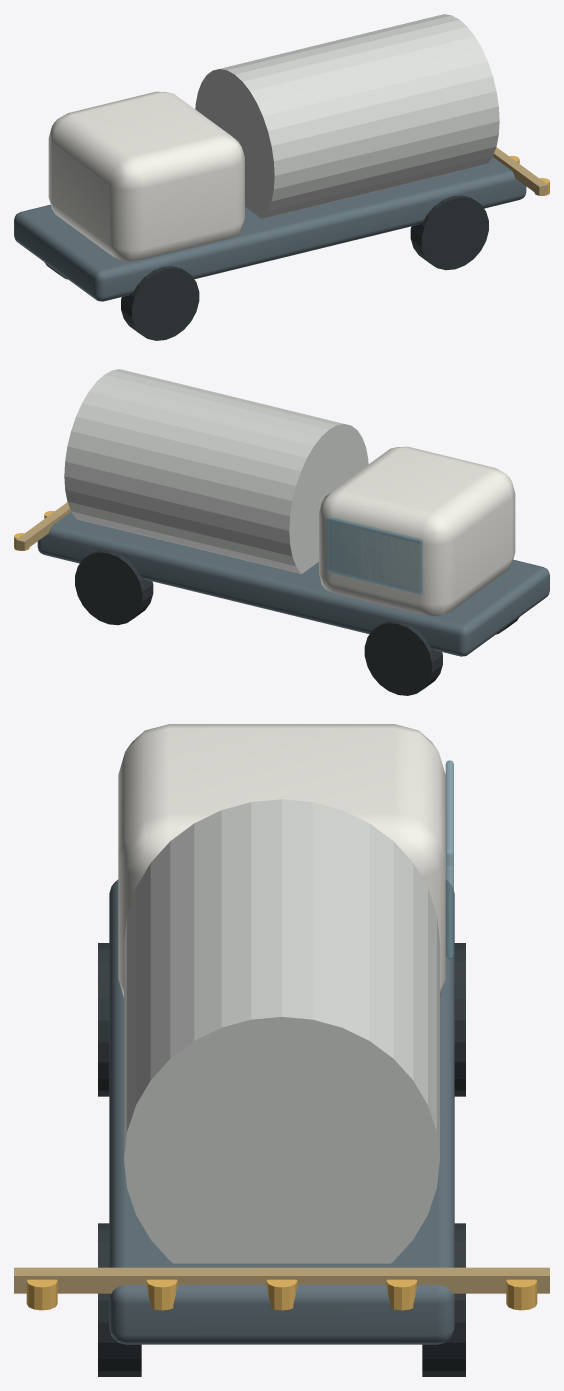
File: sprinkler.glb
The picture shows the model from 3 angles, top to bottom: view 1: azimuth 30°, elevation 25°; view 2: azimuth 150°, elevation 25°; view 3: azimuth 270°, elevation 25°; orthographic projection. The views are drawn at different scales.
Visible parts, largest first — view 1: Stainless water tank, Cab over engine, Commercial chassis, Heavy tyre, Heavy tyre.002, Rear irrigation boom; view 2: Stainless water tank, Cab over engine, Commercial chassis, Large windshield, Heavy tyre.001, Heavy tyre.003, Rear irrigation boom; view 3: Stainless water tank, Cab over engine, Commercial chassis, Rear irrigation boom, Heavy tyre.002, Heavy tyre.003, Heavy tyre, Heavy tyre.001, Large windshield, Mist nozzle, Mist nozzle.004, Mist nozzle.001 (+2 smaller).
Part boxes in pixels (x1=…): Stainless water tank: x1=195, y1=14, x2=499, y2=218; Cab over engine: x1=48, y1=91, x2=244, y2=260; Commercial chassis: x1=14, y1=157, x2=526, y2=301; Heavy tyre: x1=121, y1=266, x2=199, y2=340; Heavy tyre.002: x1=410, y1=195, x2=488, y2=270; Rear irrigation boom: x1=493, y1=147, x2=547, y2=195; Stainless water tank: x1=64, y1=369, x2=368, y2=573; Cab over engine: x1=319, y1=446, x2=515, y2=615; Commercial chassis: x1=37, y1=512, x2=549, y2=656; Large windshield: x1=326, y1=516, x2=422, y2=594; Heavy tyre.001: x1=364, y1=621, x2=442, y2=695; Heavy tyre.003: x1=75, y1=550, x2=153, y2=625; Rear irrigation boom: x1=16, y1=502, x2=70, y2=550; Stainless water tank: x1=124, y1=799, x2=439, y2=1263; Cab over engine: x1=118, y1=724, x2=445, y2=996; Commercial chassis: x1=109, y1=879, x2=454, y2=1344; Rear irrigation boom: x1=14, y1=1267, x2=549, y2=1293; Heavy tyre.002: x1=98, y1=1223, x2=141, y2=1376; Heavy tyre.003: x1=422, y1=1223, x2=465, y2=1376; Heavy tyre: x1=98, y1=943, x2=109, y2=1096; Heavy tyre.001: x1=454, y1=943, x2=465, y2=1096; Large windshield: x1=445, y1=760, x2=453, y2=959; Mist nozzle: x1=26, y1=1279, x2=57, y2=1310; Mist nozzle.004: x1=506, y1=1279, x2=537, y2=1310; Mist nozzle.001: x1=146, y1=1279, x2=177, y2=1310.
Bounding box in the file's own units: 7.04 × 3.15 × 3.8.
